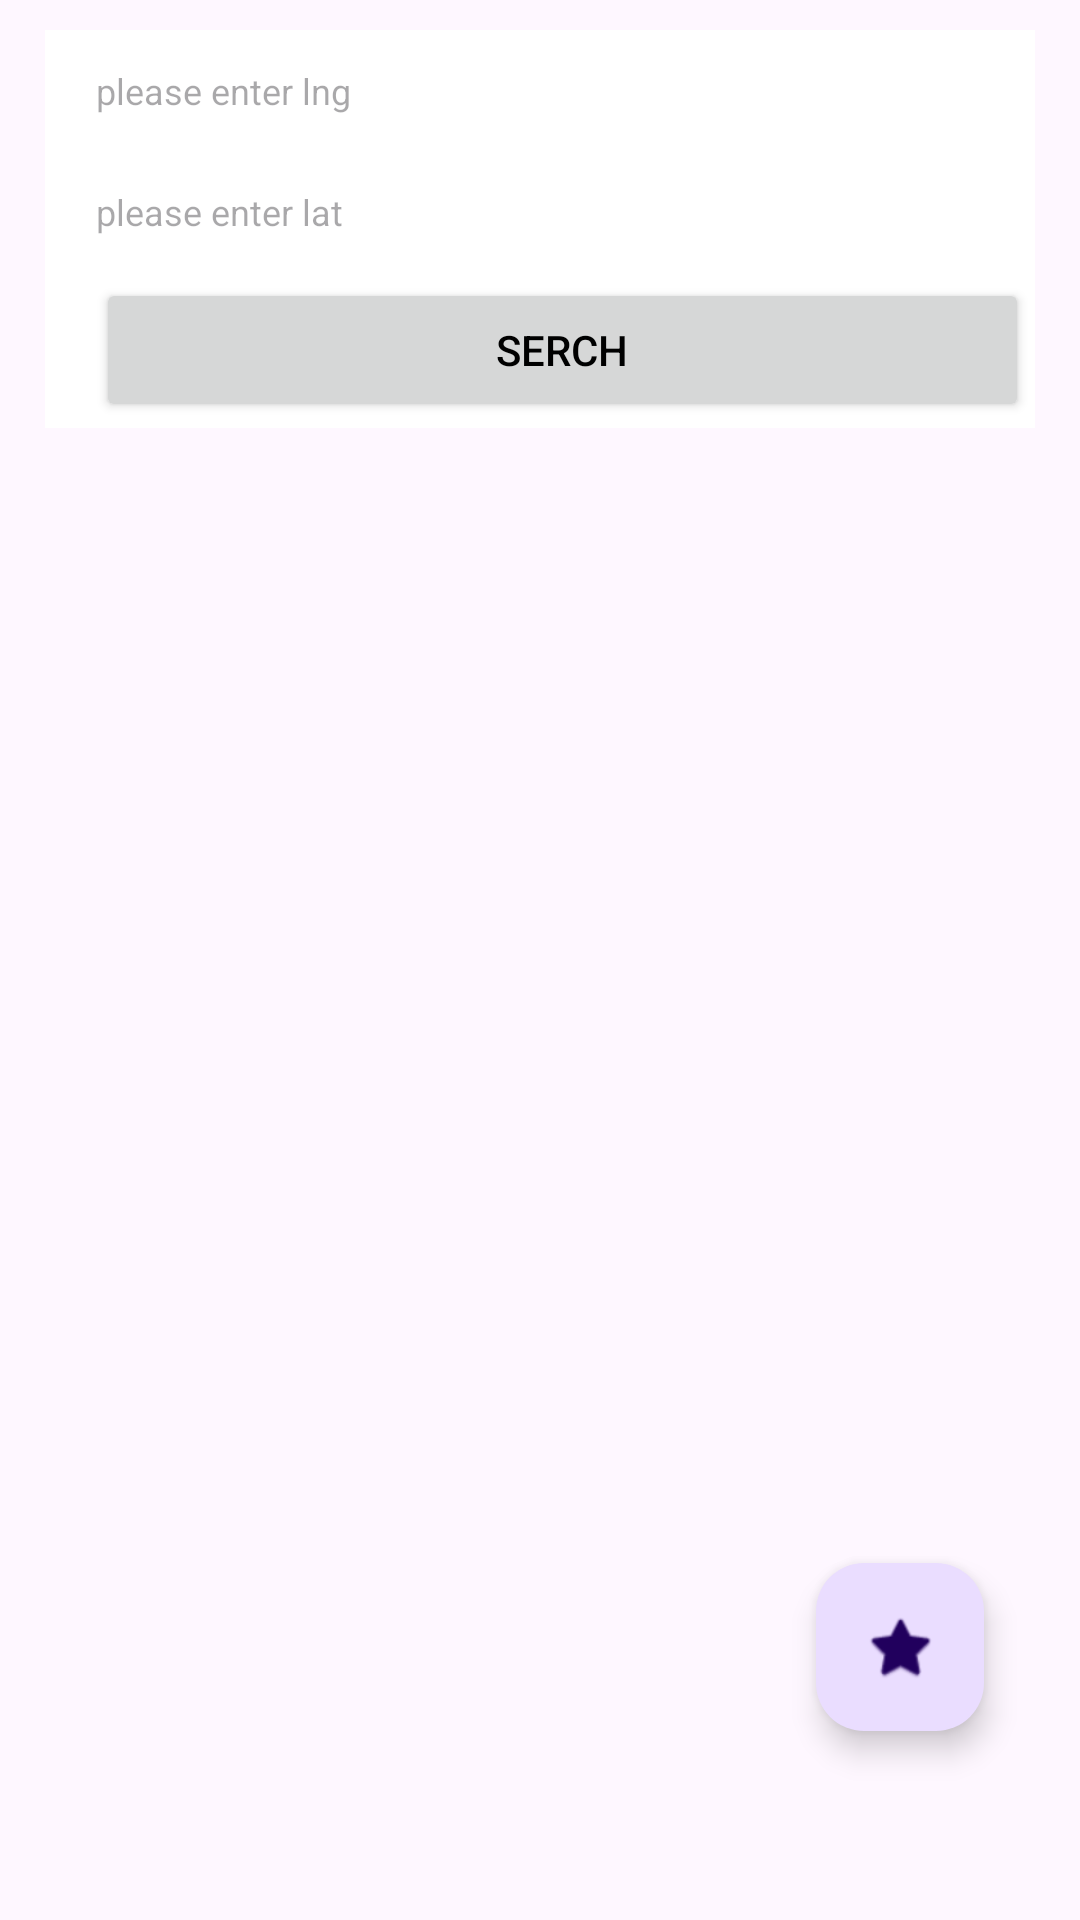

Icon bounding boxes for this 1080 x 1920 phone screenshot, format {"left": x1, "top": y1, "right": x2, "bottom": y2}:
star off: {"left": 816, "top": 1563, "right": 984, "bottom": 1731}
